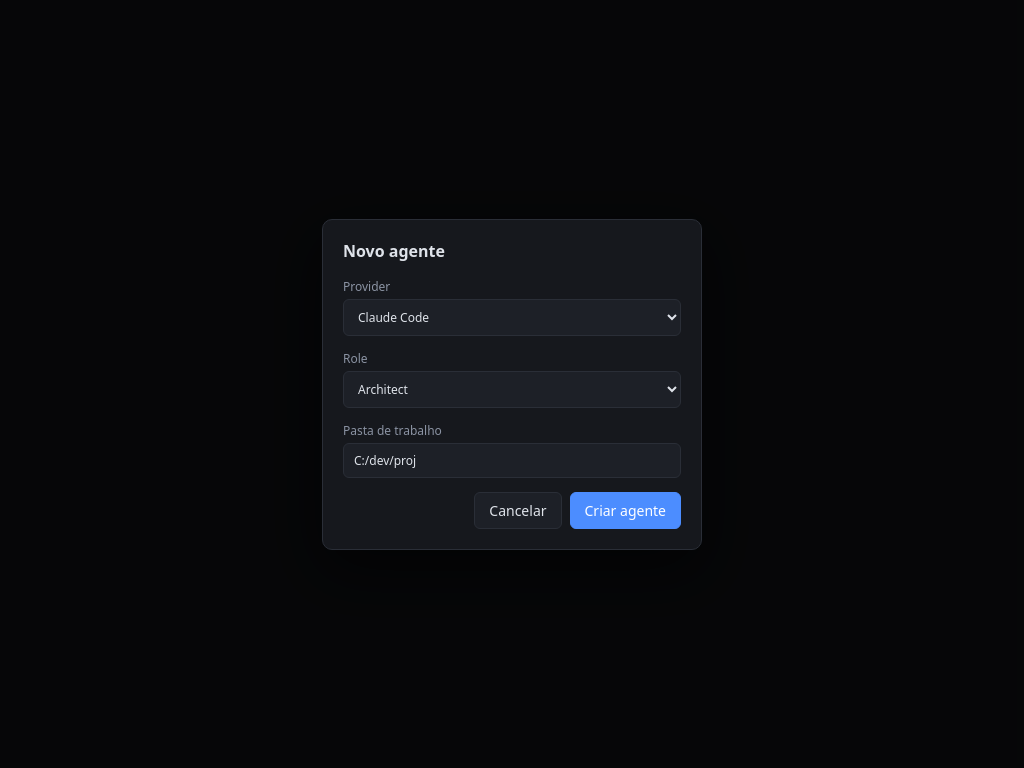
Scenario: AgentDialog › recheca ao voltar para um provider instalado e libera o botão
Select "Codex" in the dropdown labelled "Provider": (512, 317) x1=343 y1=298 x2=681 y2=336
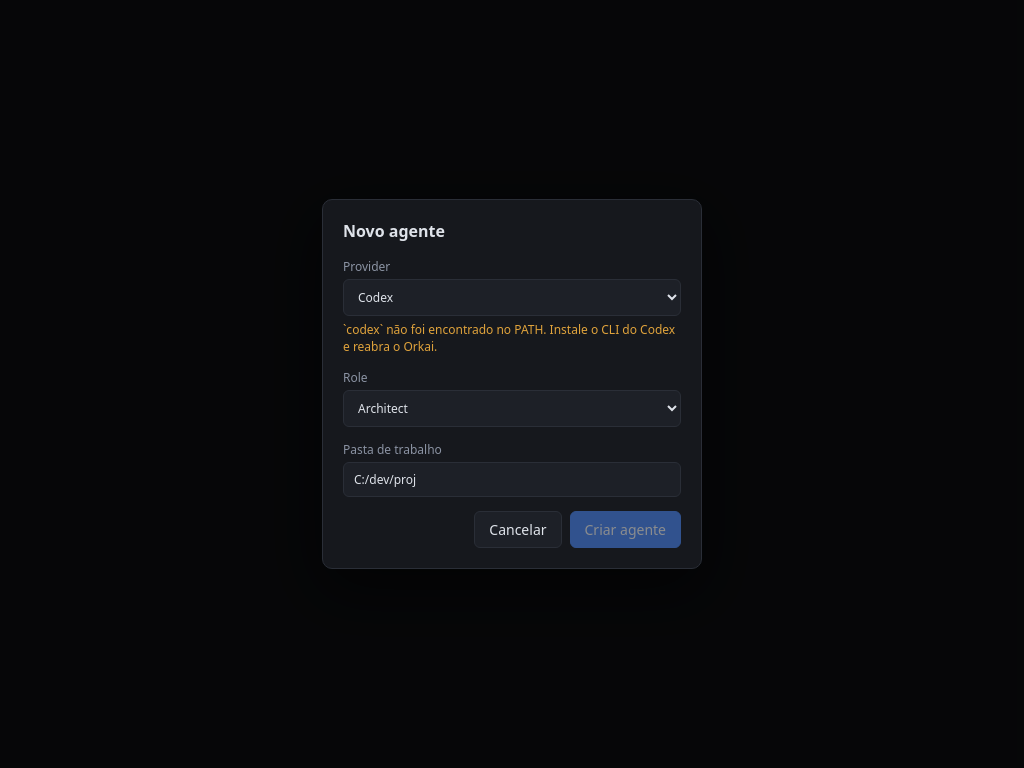
Expected: the button "Criar agente" is disabled, x1=570 y1=511 x2=681 y2=548
Select "Claude Code" in the dropdown labelled "Provider": (512, 297) x1=343 y1=279 x2=681 y2=316
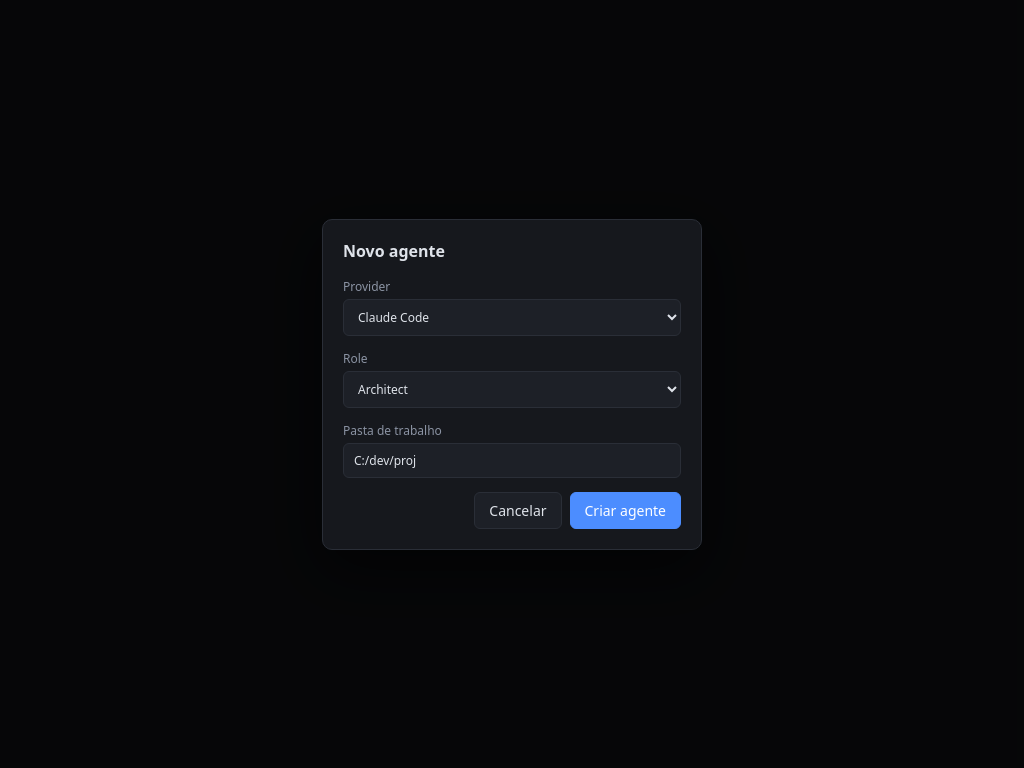
Expected: the button "Criar agente" is enabled, x1=570 y1=492 x2=681 y2=528
Expected: the message "`codex` não foi encontrado no PATH. Instale o CLI do Codex e reabra o Orkai." is gone
